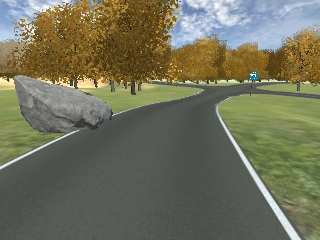left: (247, 71, 256, 82)
